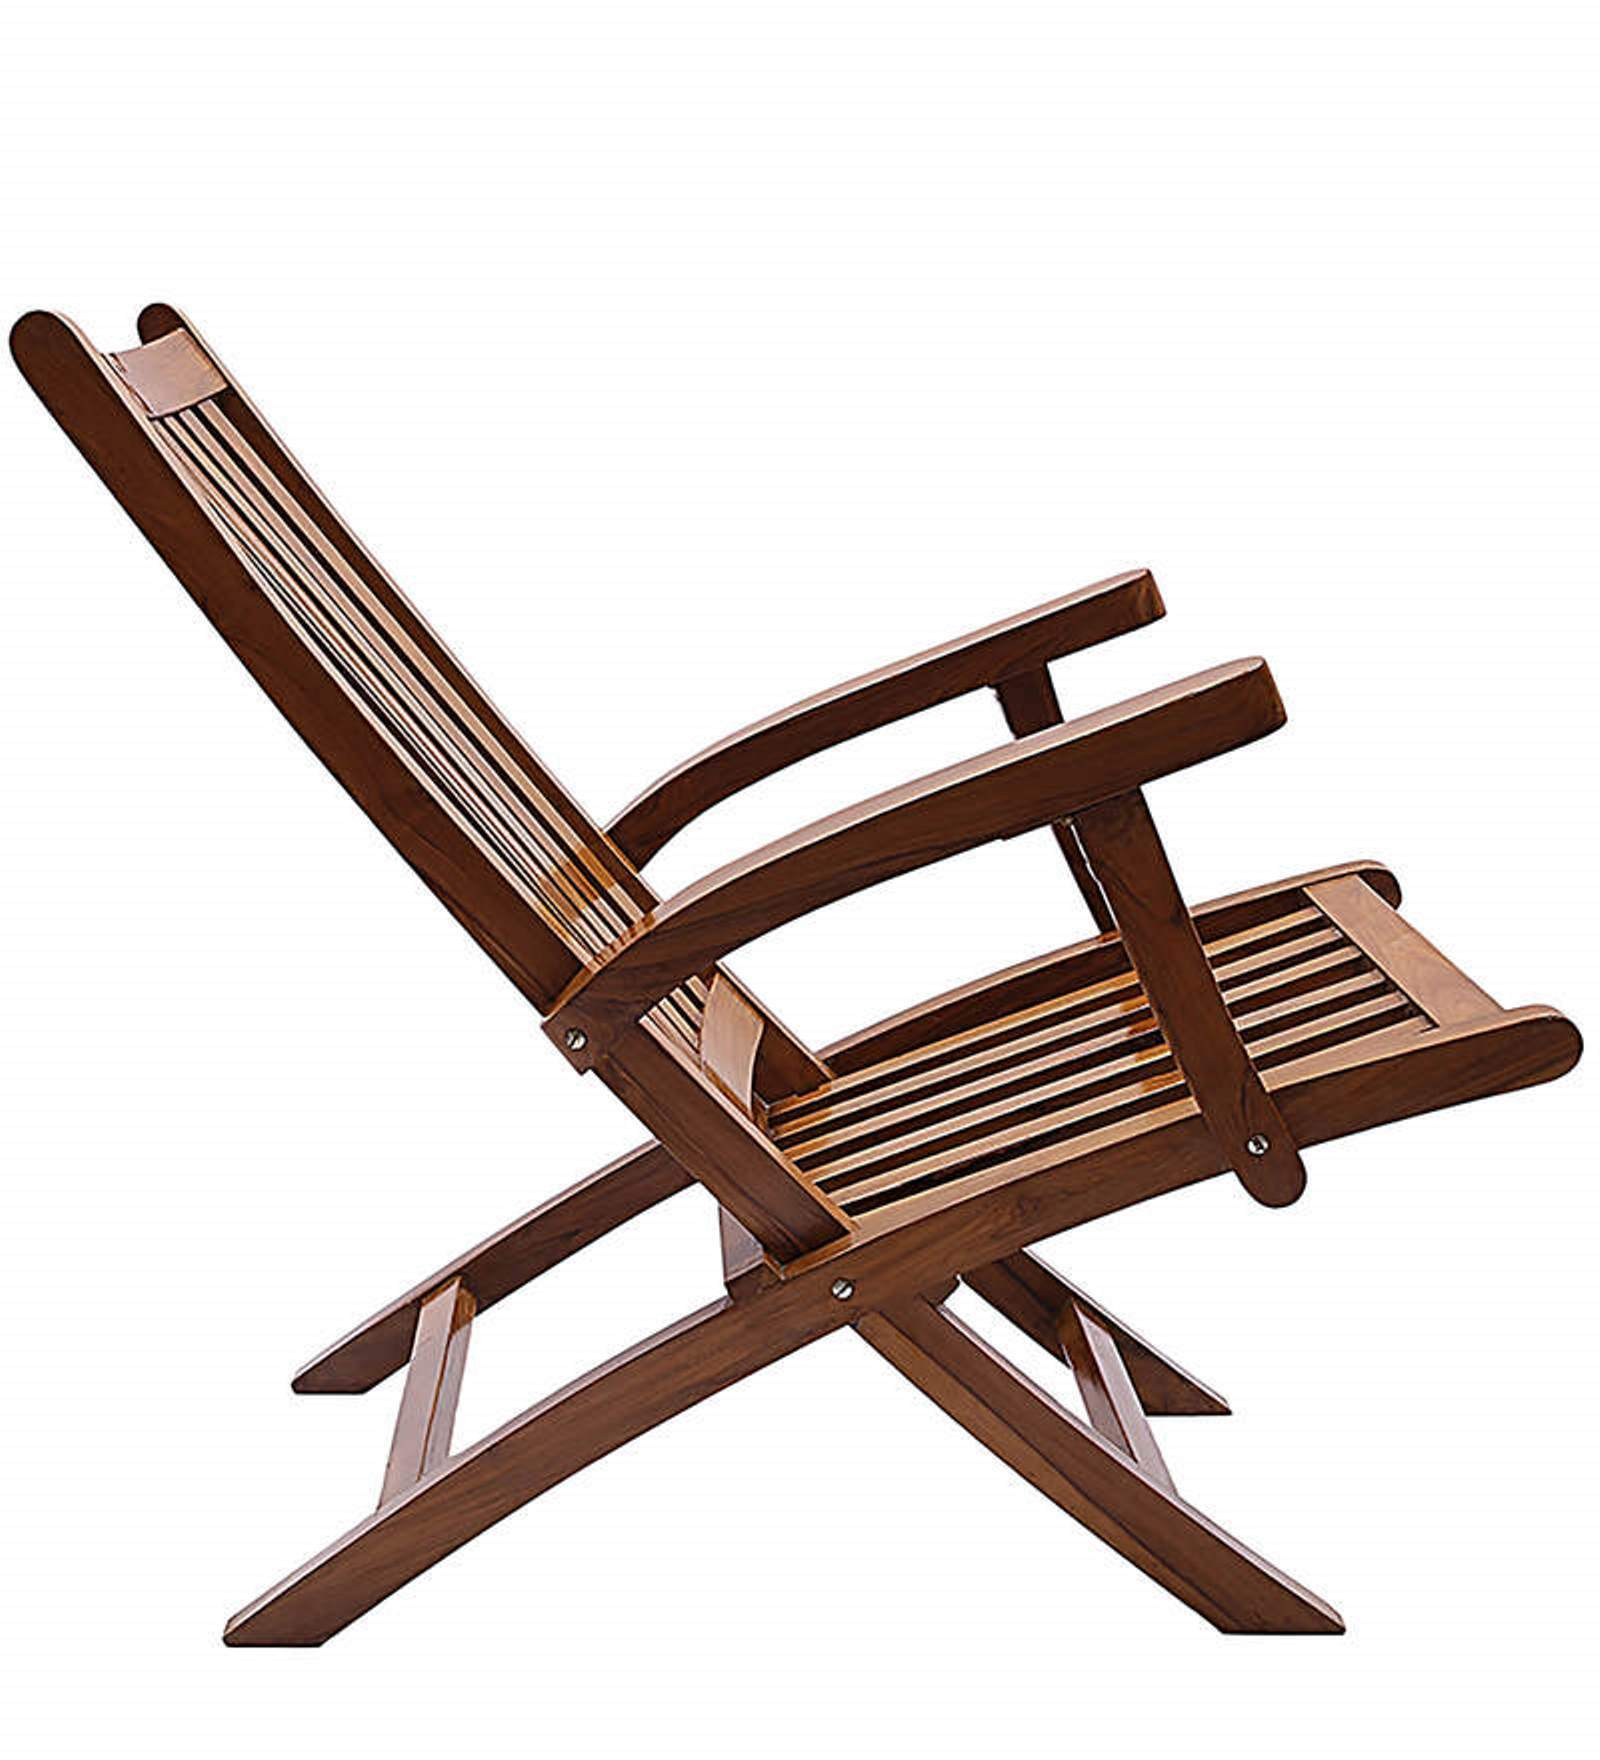Omak Teak Wood Folding Chair in Natural Teak Finish by Finesse: (11, 299, 1585, 1645)
